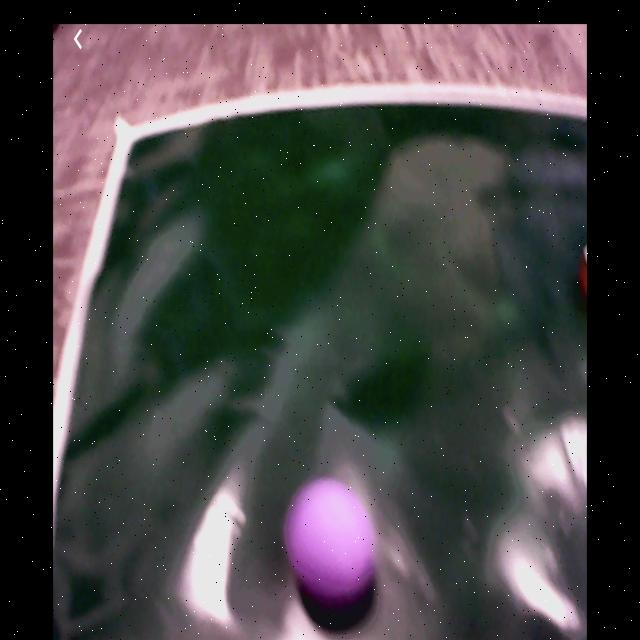ball: (288, 479, 377, 603)
